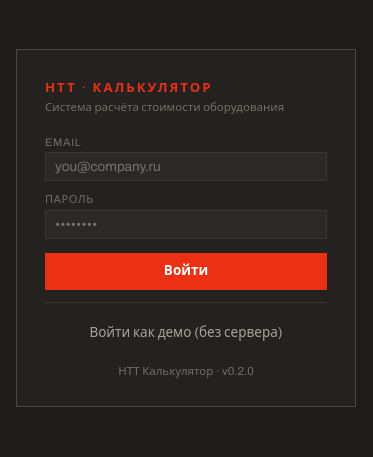
Test case: экран входа › лимит попыток без текста сервера — понятное сообщение, а не код ответа
The width and height of the screenshot is (373, 457).
Type "eng@ntt.local" into the field with id "email" at [186, 166], box top-left (45, 152), bottom-right (327, 181)
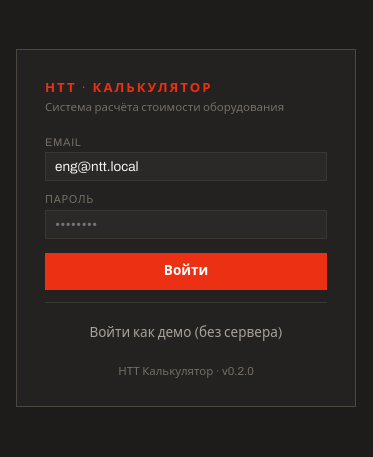
Type "какой-то-пароль" into the password field labelled "Пароль" at [186, 224], box top-left (45, 210), bottom-right (327, 239)
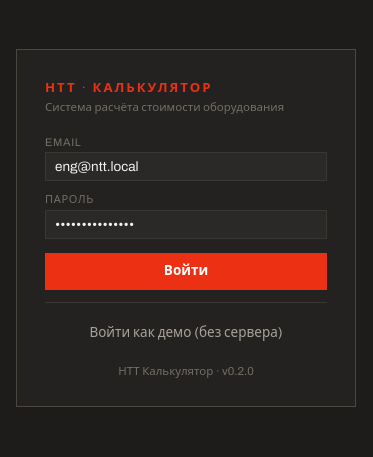
Submit the form, box top-left (45, 136), bottom-right (327, 290)
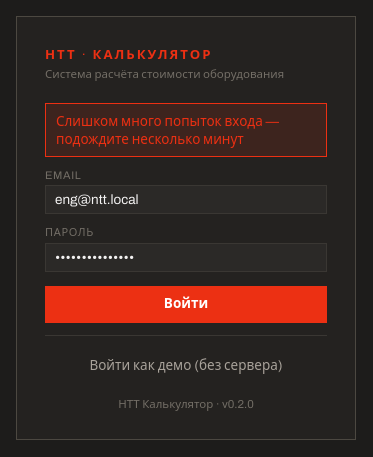
Now the text with class "auth-err" reads "Слишком много попыток входа — подождите несколько минут", box top-left (56, 114), bottom-right (279, 147)
